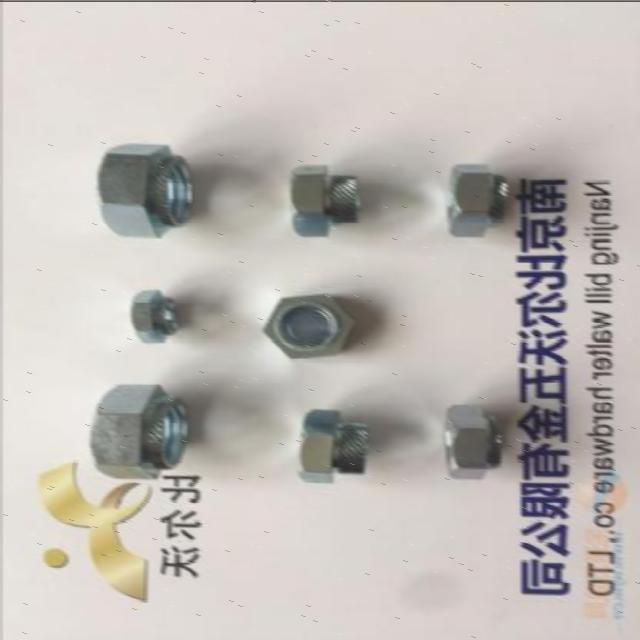Nut: (88, 382, 191, 480), (94, 140, 194, 240), (260, 292, 357, 359), (296, 406, 372, 482), (289, 161, 363, 236), (442, 402, 506, 478), (446, 162, 508, 238), (128, 288, 180, 342)
